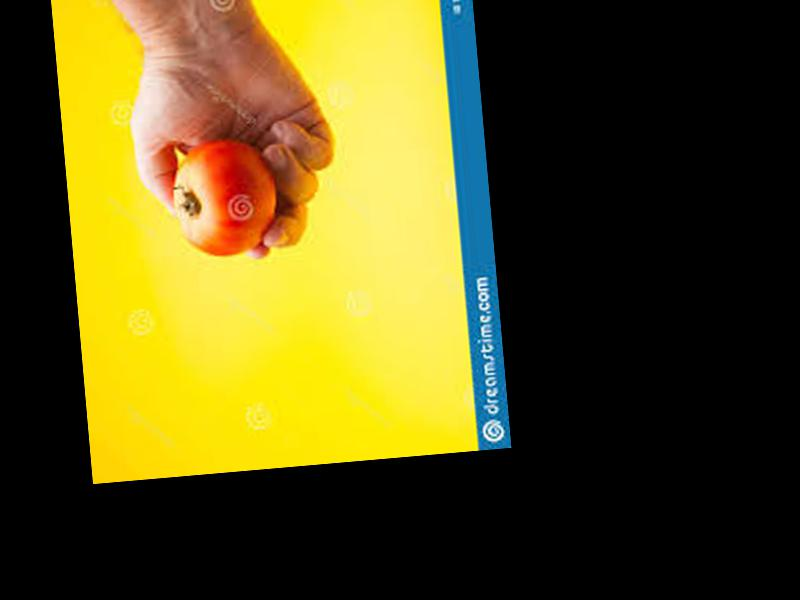Tomato: (169, 136, 280, 259)
